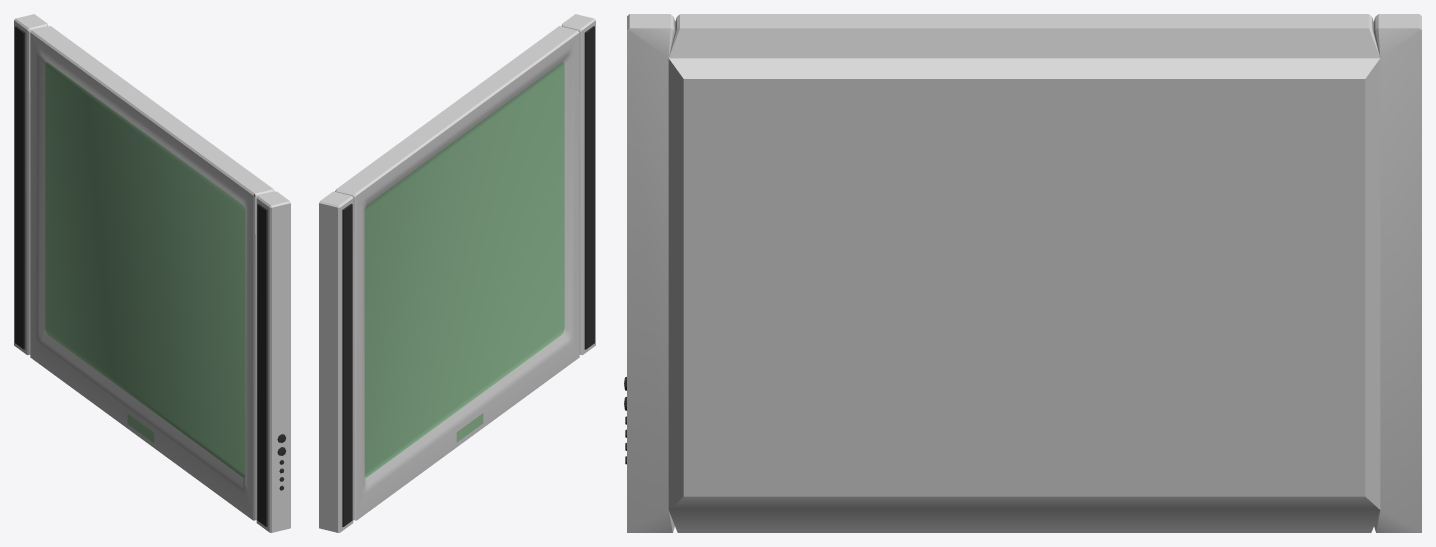
Rendered from YJ41CUNDYX03.FBX.
3 renders of one model, left to right at view 1: azimuth 30°, elevation 25°; view 2: azimuth 150°, elevation 25°; view 3: azimuth 270°, elevation 25°, orthographic. The views are drawn at different scales.
Visible parts, largest first — view 1: YJ41CUNDYX03; view 2: YJ41CUNDYX03; view 3: YJ41CUNDYX03.
Boxes of the visible parts, <box> form: YJ41CUNDYX03: <box>14,14,290,532</box>; YJ41CUNDYX03: <box>319,14,595,532</box>; YJ41CUNDYX03: <box>624,14,1421,532</box>.
Size of the model in its own units: 10.77 by 125 by 87.25.
